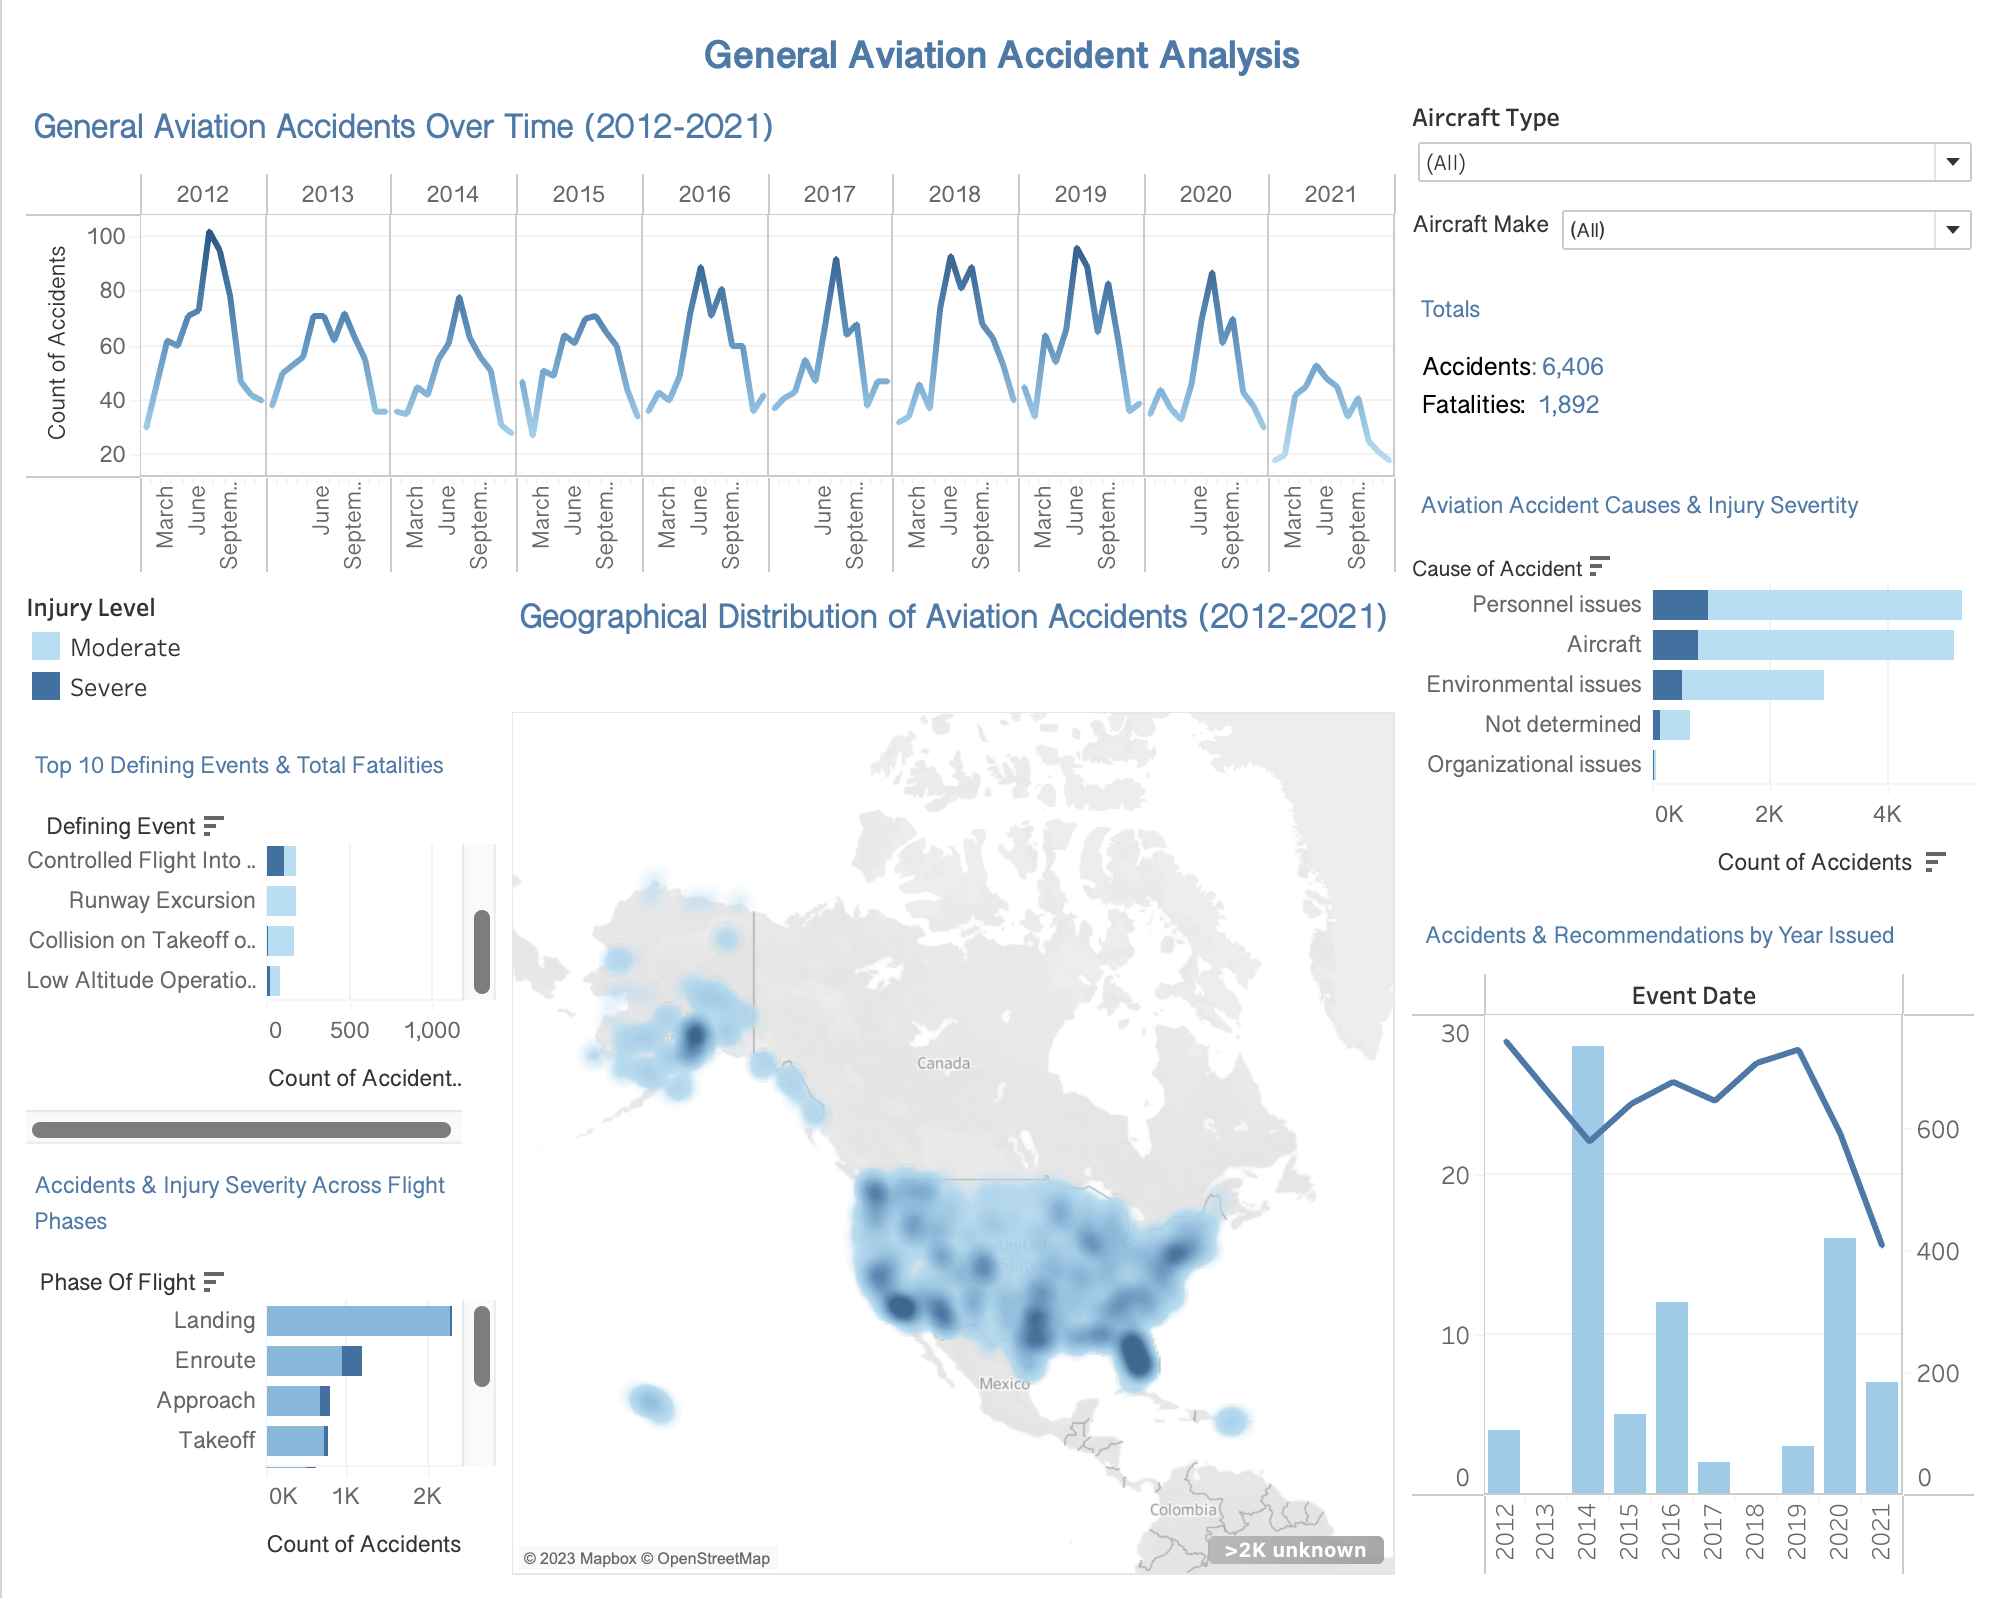

What the dashboard file says about the page in this screenshot:
{"tool":"tableau","page":{"name":"Dashboard","canvas":[1000,800],"ordinal":0},"visuals":[{"type":"text","box":[8,8,984,38]},{"type":"worksheet","title":"Accidents by Year","mark":"Line","rows":["EventDate"],"cols":["EventDate","EventDate"],"box":[8,46,693,245.5]},{"type":"filter","title":"Accidents by Year","param":"[federated.0iyqqbn0ggxoym18ktk6a0be1rlc].[Aircraft Category Set]","box":[701,46,291,52]},{"type":"filter","title":"Accidents","param":"[federated.0iyqqbn0ggxoym18ktk6a0be1rlc].[Aircraft Make Set]","box":[701,98,291,40]},{"type":"worksheet","title":"Accidents","mark":"Automatic","box":[701,138,291,98]},{"type":"worksheet","title":"Defining Causes and Fatalities in Aviation Accidents","mark":"Bar","rows":["Category"],"cols":["Accidents_9E2653E7BC4643D685D8DA0DC1232D89"],"box":[701,236,291,215]},{"type":"legend","title":"Stacked Bar - Top 10 Defining Event","param":"[federated.0iyqqbn0ggxoym18ktk6a0be1rlc].[none:InjuryLevel:nk]","box":[8,291.5,243.1,75]},{"type":"worksheet","title":"Geospatial Map","mark":"Heatmap","box":[251.1,291.5,449.9,500.5]},{"type":"worksheet","title":"Stacked Bar - Top 10 Defining Event","mark":"Bar","rows":["DefiningEvent"],"cols":["DefiningEvent"],"box":[8,366.5,243.1,209.5]},{"type":"worksheet","title":"Accidents & Recommendations","mark":"Automatic","rows":["Recommendations_7A85228AE3D24BB08B64B646CC188BFF","Accidents_9E2653E7BC4643D685D8DA0DC1232D89"],"cols":["EventDate"],"box":[701,451,291,341]},{"type":"worksheet","title":"Accidents by Phase of Flight","mark":"Automatic","rows":["PhaseOfFlight"],"cols":["PhaseOfFlight"],"box":[8,576,243.1,216]}]}

Visuals, with their boxes in screenshot pixels (x1, y1, x2, y2), scaled from the page's 1000x800 canvas onto the 1998x1598 screenshot:
text: Rect(16, 16, 1982, 92)
"Accidents by Year" worksheet (Line marks): Rect(16, 92, 1401, 582)
"Accidents by Year" filter: Rect(1401, 92, 1982, 196)
"Accidents" filter: Rect(1401, 196, 1982, 276)
"Accidents" worksheet: Rect(1401, 276, 1982, 471)
"Defining Causes and Fatalities in Aviation Accidents" worksheet (Bar marks): Rect(1401, 471, 1982, 901)
"Stacked Bar - Top 10 Defining Event" legend: Rect(16, 582, 502, 732)
"Geospatial Map" worksheet (Heatmap marks): Rect(502, 582, 1401, 1582)
"Stacked Bar - Top 10 Defining Event" worksheet (Bar marks): Rect(16, 732, 502, 1151)
"Accidents & Recommendations" worksheet: Rect(1401, 901, 1982, 1582)
"Accidents by Phase of Flight" worksheet: Rect(16, 1151, 502, 1582)
